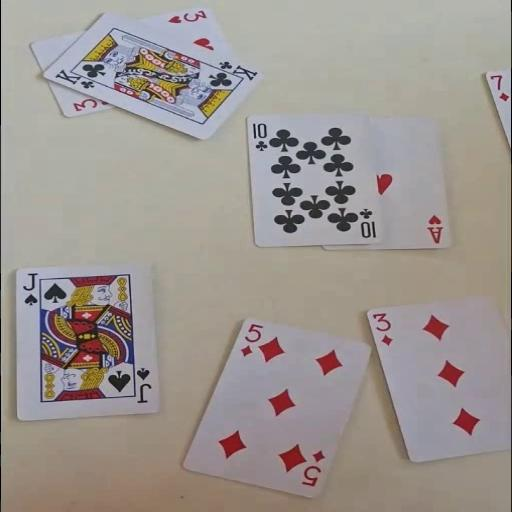10: (358, 206, 377, 239), (250, 121, 269, 152)
3: (370, 311, 394, 346), (165, 8, 209, 24), (70, 98, 100, 112)
5: (298, 448, 328, 488), (237, 321, 265, 358)
7: (488, 72, 510, 102)
A: (426, 213, 444, 244)
J: (134, 366, 152, 403), (20, 272, 38, 306)
K: (51, 66, 96, 90), (215, 58, 259, 82)
